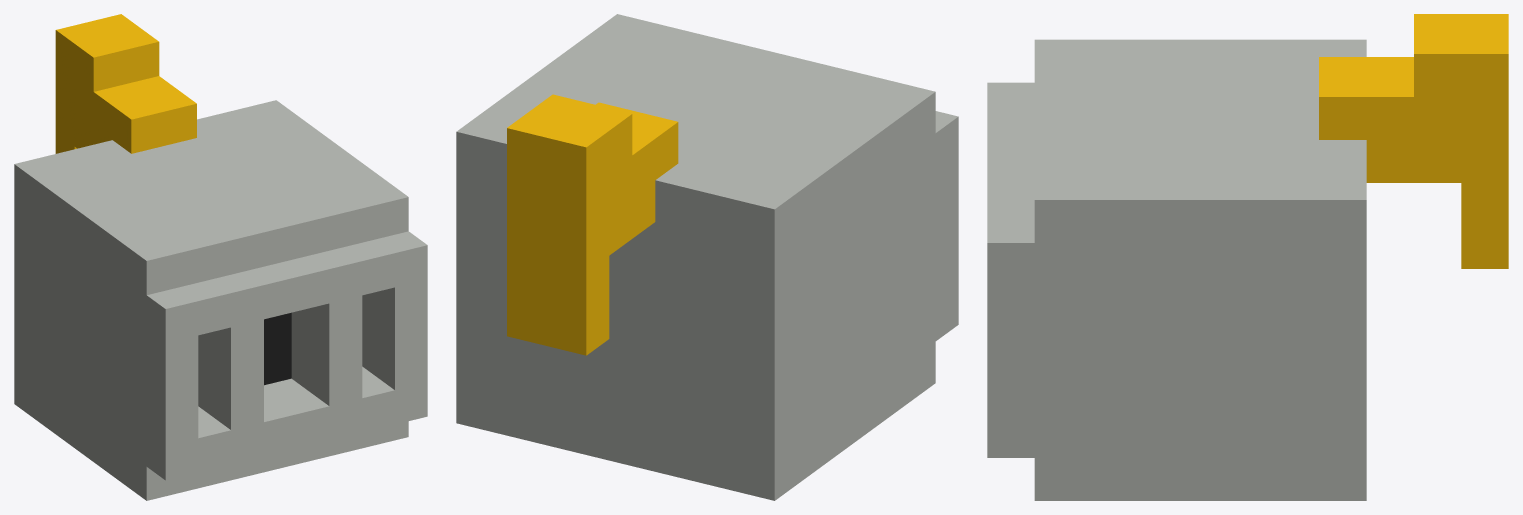
File: Head.fbx
3 views of the same model, side by side, from view 1: azimuth 30°, elevation 25°; view 2: azimuth 150°, elevation 25°; view 3: azimuth 270°, elevation 25° (orthographic). The views are drawn at different scales.
Visible parts, largest first — view 1: Head.001; view 2: Head.001; view 3: Head.001.
Part boxes in pixels (bbox=[...]): Head.001: bbox=[14, 14, 427, 500]; Head.001: bbox=[456, 14, 958, 500]; Head.001: bbox=[987, 14, 1508, 500].
Bounding box in the file's own units: 0.8 × 0.9 × 1.1.
Materials: 1 (1 with a texture image).
